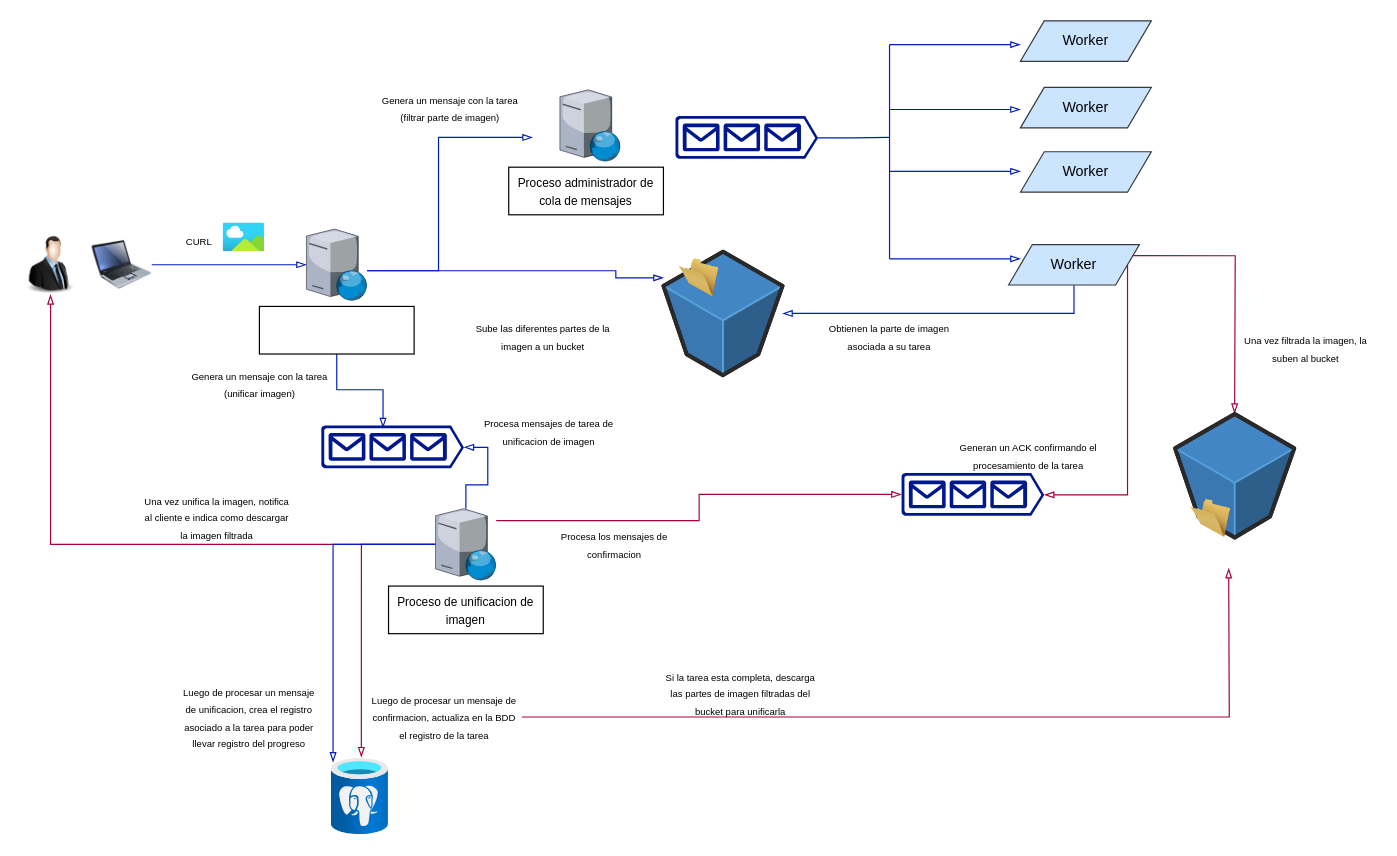
Image size: 1397x856. Some labels were removed from this diagram. The shapes that lost their labels are listed below. From the top down, each one's centre as x and y in pixels, then its label:
At (698,277): "pre-filtrado".
At (336,329): "Proceso de division de imagen".
At (1210,518): "post-filtrado".
